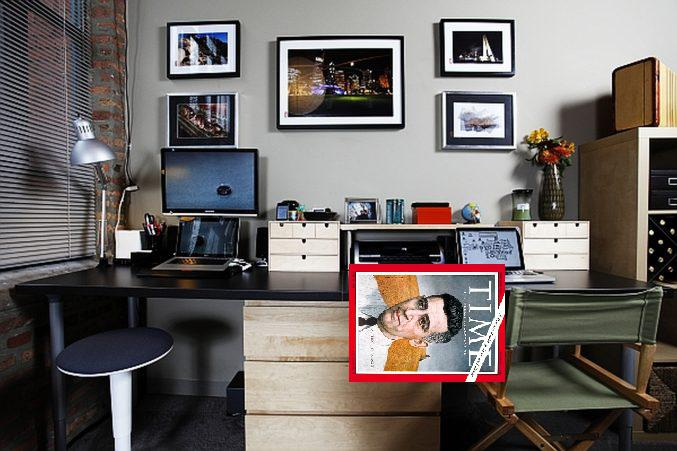times: (344, 262, 512, 385)
